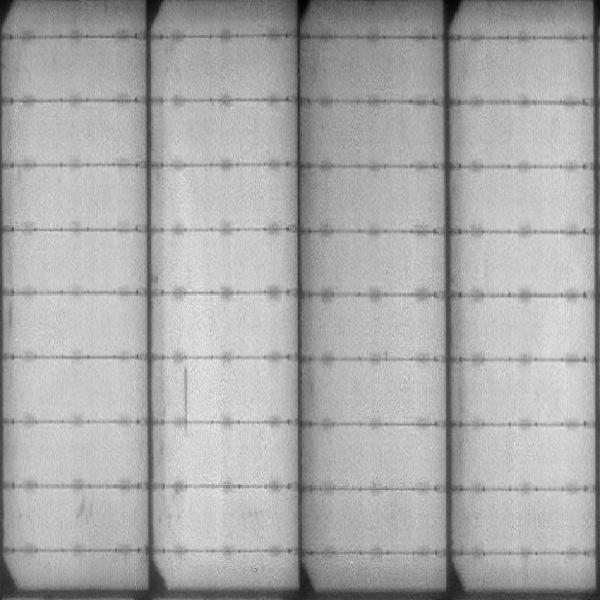scratch: (181, 366, 191, 430)
